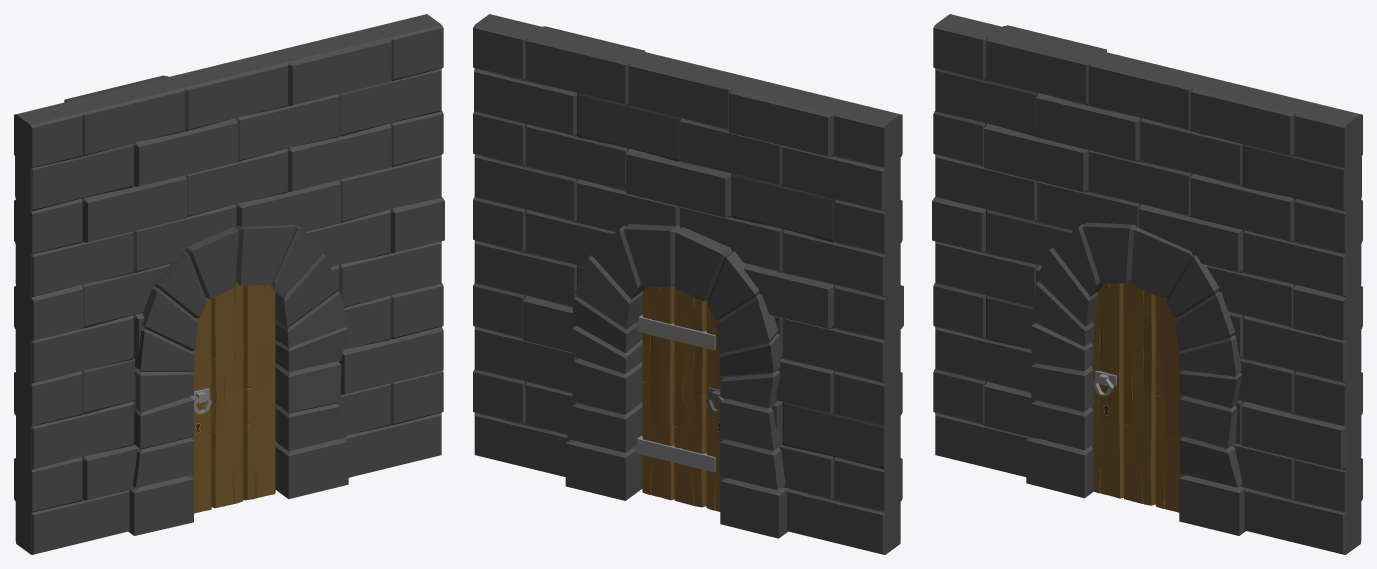
File: Door_Stone.fbx
The picture shows the model from 3 angles, left to right: view 1: azimuth 30°, elevation 25°; view 2: azimuth 150°, elevation 25°; view 3: azimuth 330°, elevation 25°; orthographic projection.
Parts seen in each view (by area): view 1: Wall_Stone.005, Door; view 2: Wall_Stone.005, Door; view 3: Wall_Stone.005, Door.
Boxes of the visible parts, x1,y1,x2,y2 form: Wall_Stone.005: (14, 14, 444, 554); Door: (189, 282, 276, 513); Wall_Stone.005: (473, 14, 903, 554); Door: (633, 285, 724, 511); Wall_Stone.005: (932, 14, 1362, 554); Door: (1092, 280, 1183, 512).
Bounding box in the file's own units: 400 × 400 × 59.74.
